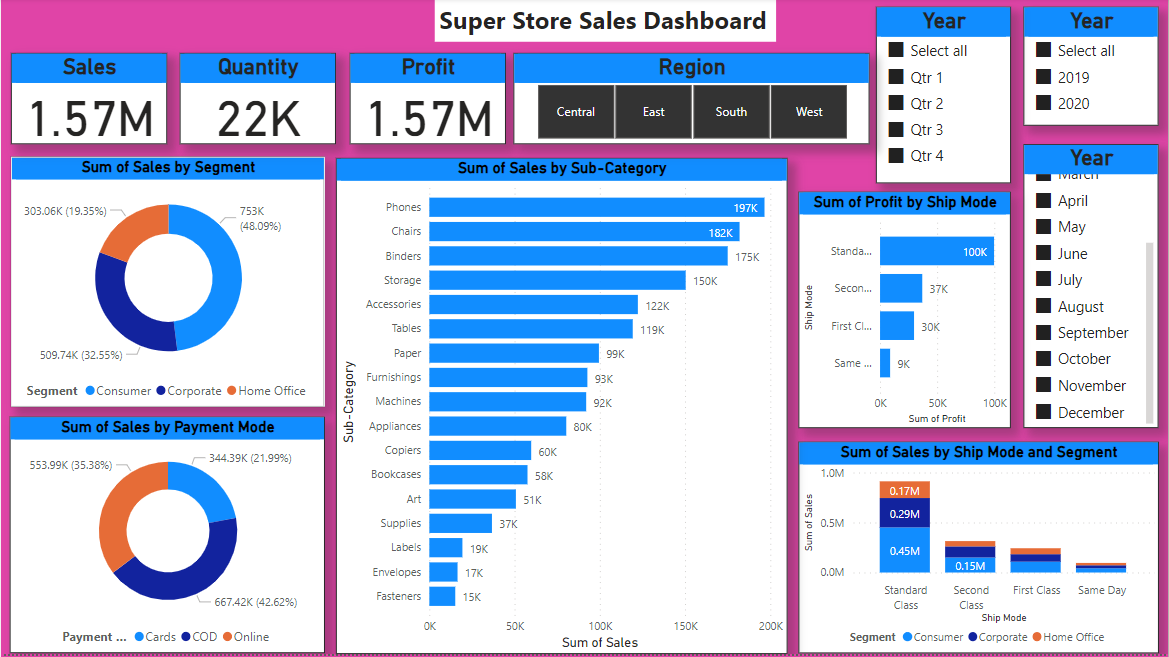

The page's visual inventory and layout, read from the dashboard file:
{"tool":"powerbi","page":{"name":"Page 1","canvas":[1280,720],"ordinal":0},"visuals":[{"type":"donutChart","fields":{"Y":["Sum(SuperStore_Sales_Dataset.Sales)"],"Series":["SuperStore_Sales_Dataset.Segment"]},"box":[11,174.1,344.1,274.2],"z":0},{"type":"donutChart","fields":{"Y":["Sum(SuperStore_Sales_Dataset.Sales)"],"Series":["SuperStore_Sales_Dataset.Payment Mode"]},"box":[9.6,459.3,345.5,259.1],"z":1000},{"type":"textbox","box":[475.8,0,374.3,48],"z":2000},{"type":"card","title":"Sales","fields":{"Values":["Sum(SuperStore_Sales_Dataset.Sales)"]},"box":[11,60.3,171.4,100.1],"z":3000},{"type":"card","title":"Quantity","fields":{"Values":["Sum(SuperStore_Sales_Dataset.Quantity)"]},"box":[196.1,60.3,171.4,100.1],"z":4000},{"type":"card","title":"Profit","fields":{"Values":["Sum(SuperStore_Sales_Dataset.Sales)"]},"box":[382.5,60.3,171.4,100.1],"z":5000},{"type":"columnChart","fields":{"Y":["Sum(SuperStore_Sales_Dataset.Sales)"],"Category":["SuperStore_Sales_Dataset.Ship Mode"],"Series":["SuperStore_Sales_Dataset.Segment"]},"box":[874.7,486.7,394.9,231.7],"z":6000},{"type":"barChart","fields":{"Category":["SuperStore_Sales_Dataset.Sub-Category"],"Y":["Sum(SuperStore_Sales_Dataset.Sales)"]},"box":[367.4,175.5,494.9,544.3],"z":7000},{"type":"slicer","title":"Year","fields":{"Values":["SuperStore_Sales_Dataset.Order Date.Variation.Date Hierarchy.Year"]},"box":[1121.5,9.6,148.1,130.2],"z":7001},{"type":"slicer","title":"Year","fields":{"Values":["SuperStore_Sales_Dataset.Order Date.Variation.Date Hierarchy.Quarter"]},"box":[959.7,9.6,148.1,193.3],"z":7002},{"type":"slicer","title":"Year","fields":{"Values":["SuperStore_Sales_Dataset.Order Date.Variation.Date Hierarchy.Month"]},"box":[1121.5,160.4,148.1,311.2],"z":7003},{"type":"barChart","fields":{"Category":["SuperStore_Sales_Dataset.Ship Mode"],"Y":["Sum(SuperStore_Sales_Dataset.Profit)"]},"box":[874.7,212.5,233.1,259.1],"z":7004},{"type":"slicer","title":"Region","fields":{"Values":["SuperStore_Sales_Dataset.Region"]},"box":[562.1,60.3,390.7,100.1],"z":7005}]}

Visuals, with their boxes in screenshot pixels (x1, y1, x2, y2), scaled from the page's 1280x720 canvas onto the 1169x657 screenshot:
donutChart - Sum(SuperStore_Sales_Dataset.Sales) x SuperStore_Sales_Dataset.Segment: 10:159:324:409
donutChart - Sum(SuperStore_Sales_Dataset.Sales) x SuperStore_Sales_Dataset.Payment Mode: 9:419:324:656
textbox: 435:0:776:44
"Sales" card: 10:55:167:146
"Quantity" card: 179:55:336:146
"Profit" card: 349:55:506:146
columnChart - Sum(SuperStore_Sales_Dataset.Sales) x SuperStore_Sales_Dataset.Ship Mode: 799:444:1160:656
barChart - SuperStore_Sales_Dataset.Sub-Category x Sum(SuperStore_Sales_Dataset.Sales): 336:160:788:656
"Year" slicer: 1024:9:1160:128
"Year" slicer: 876:9:1012:185
"Year" slicer: 1024:146:1160:430
barChart - SuperStore_Sales_Dataset.Ship Mode x Sum(SuperStore_Sales_Dataset.Profit): 799:194:1012:430
"Region" slicer: 513:55:870:146
